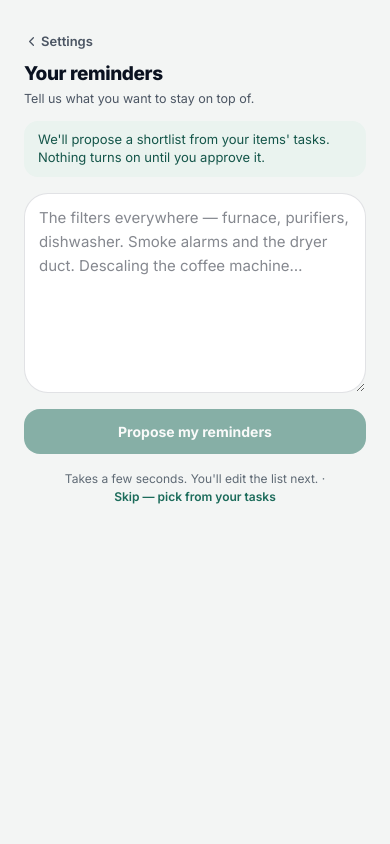
Test: YourReminders › turns on only the ticked rows, writes cadence only when it changed, and never deletes anything
This screenshot has width=390, height=844.
Replace the text in the text box named "What do you want to stay on top of?" with "filters and the smoke alarms" at (195, 292), box [24, 192, 366, 392]
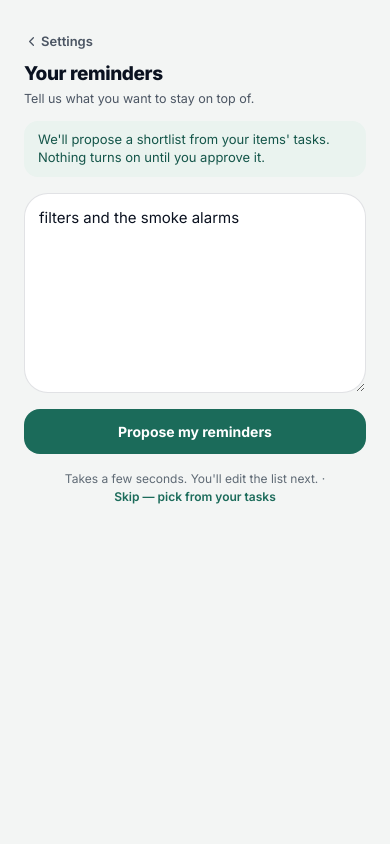
Click the button "Propose my reminders" at (195, 431), box [24, 408, 366, 454]
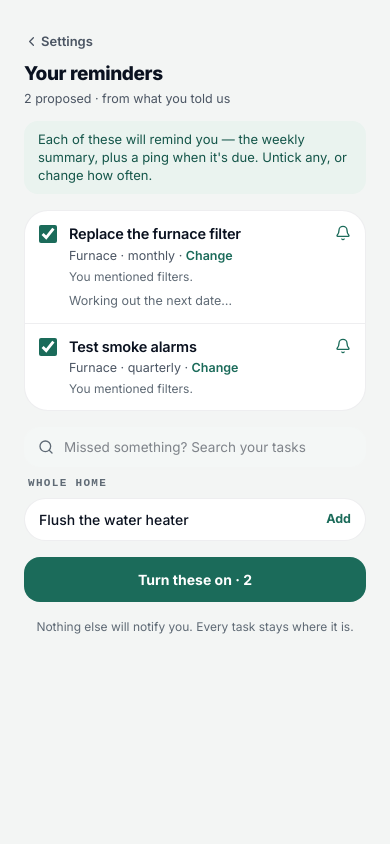
Result: the text "2 proposed · from what you told us" is shown at [24, 91, 230, 106]
Click the checkbox labelled "Test smoke alarms" at (48, 347), box [39, 338, 57, 356]
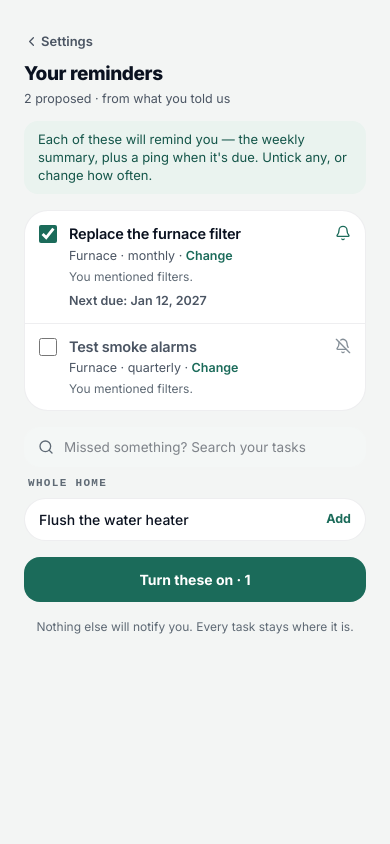
Click the button "Turn these on · 1" at (195, 579), box [24, 557, 366, 602]
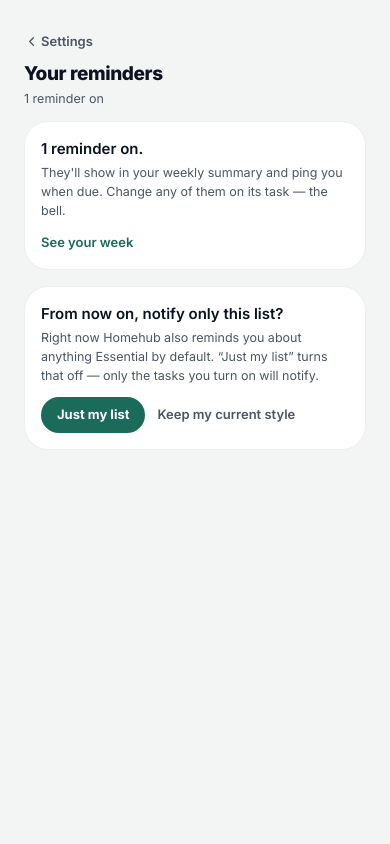
Result: the text "1 reminder on." is shown at [41, 139, 143, 158]
